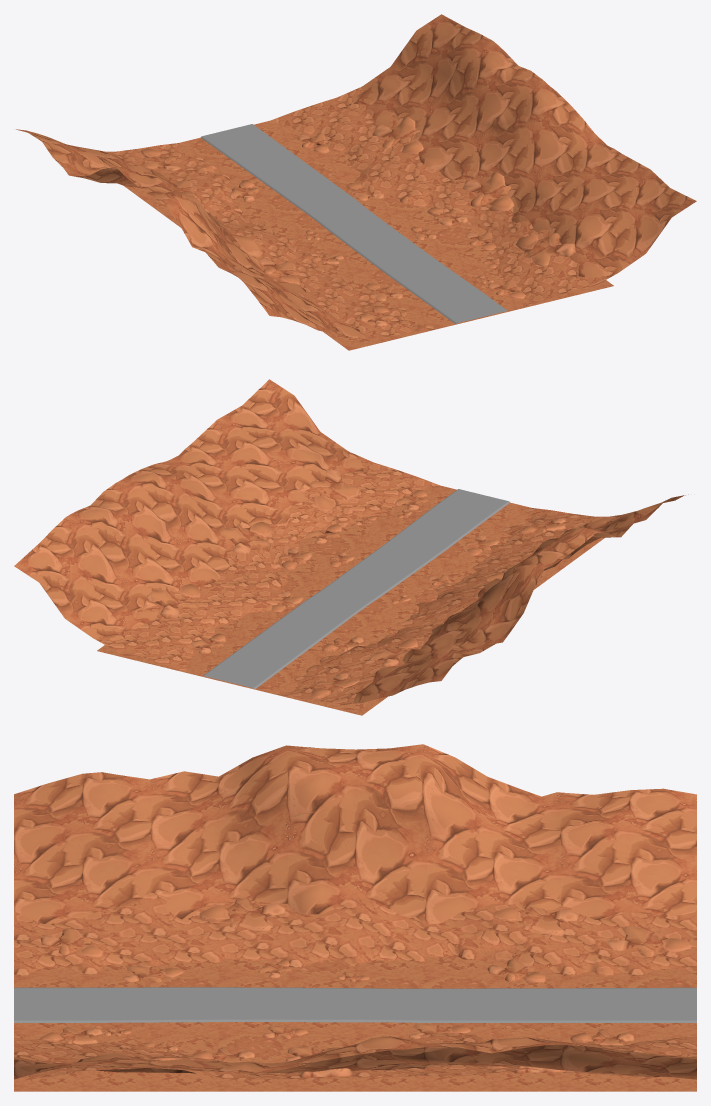
Rendered from DesertTrack_50x50.FBX.
The picture shows the model from 3 angles, top to bottom: view 1: azimuth 30°, elevation 25°; view 2: azimuth 150°, elevation 25°; view 3: azimuth 270°, elevation 25°; orthographic projection. The views are drawn at different scales.
Visible parts, largest first — view 1: DesertTrack_50x50; view 2: DesertTrack_50x50; view 3: DesertTrack_50x50.
Part boxes in pixels (x1,y1,x2,y2): DesertTrack_50x50: (16, 14, 696, 350); DesertTrack_50x50: (14, 379, 688, 715); DesertTrack_50x50: (14, 744, 696, 1091).
Size of the model in its own units: 49.07 by 10.17 by 50.
2 materials, 1 textured.
